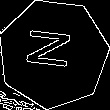N_E: (26, 31, 81, 77)
